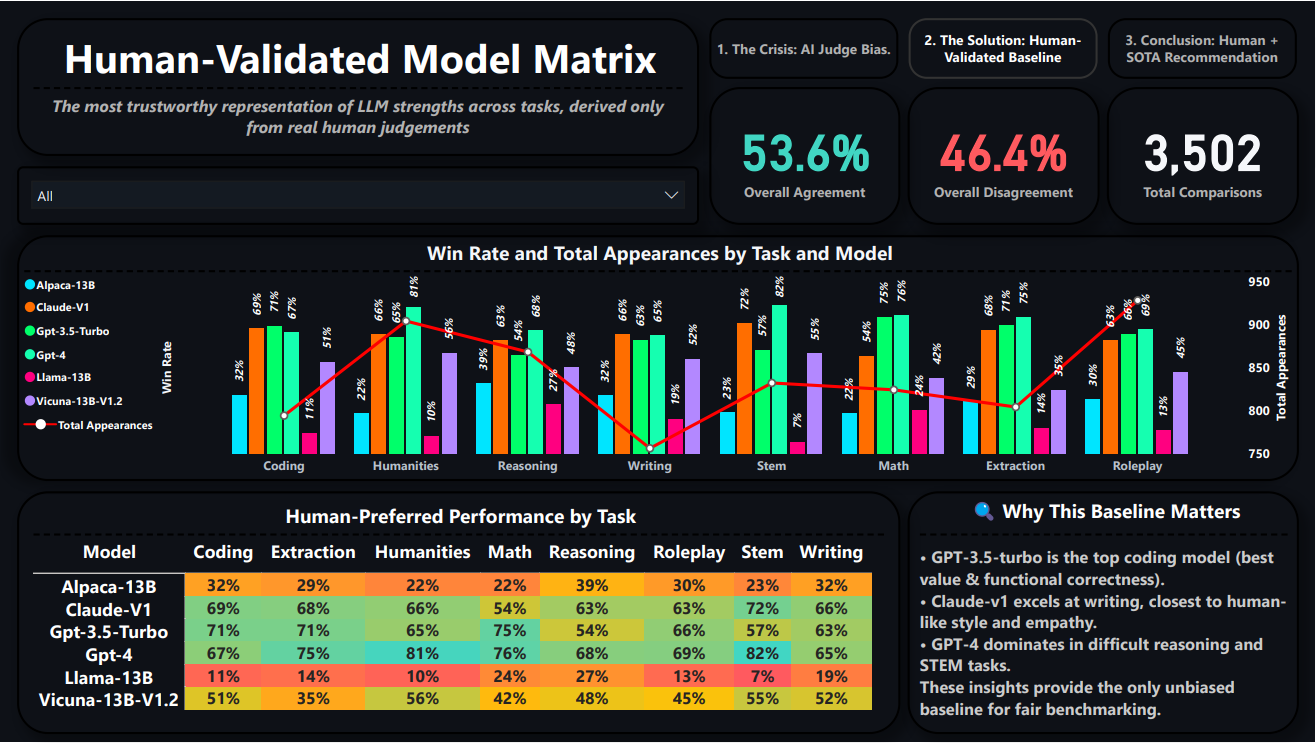

What the dashboard file says about the page in this screenshot:
{"tool":"powerbi","page":{"name":"2. The Solution: Human-Validated Baseline","canvas":[1280,720],"ordinal":1},"visuals":[{"type":"textbox","title":"Human-Validated Model Matrix","box":[16,16,663.8,133.7],"z":0},{"type":"pivotTable","title":"Human-Preferred Performance by Task","fields":{"Rows":["human_model_rankings_for_powerbi.model"],"Columns":["human_model_rankings_for_powerbi.category"],"Values":["Avg(human_model_rankings_for_powerbi.win_rate)"]},"box":[16,476.1,860.1,235.6],"z":1000},{"type":"lineClusteredColumnComboChart","title":"Win Rate and Total Appearances by Task and Model","fields":{"Category":["human_model_rankings_for_powerbi.category"],"Y":["Avg(human_model_rankings_for_powerbi.win_rate)"],"Y2":["Sum(human_model_rankings_for_powerbi.appearances)"],"Series":["human_model_rankings_for_powerbi.model"]},"box":[16,227,1247.9,239.3],"z":2000},{"type":"textbox","title":"🔍 Why This Baseline Matters","box":[883.4,476.1,380.4,235.6],"z":3000},{"type":"slicer","title":"Category","fields":{"Values":["agreement_rates_for_powerbi.category"]},"box":[16,159.5,663.8,57.7],"z":4000},{"type":"card","fields":{"Values":["Avg(agreement_rates_for_powerbi.agreement_rate)"]},"box":[689.6,83.4,186.5,133.7],"z":5000},{"type":"card","fields":{"Values":["Avg(agreement_rates_for_powerbi.disagreement_rate)"]},"box":[883.4,83.4,186.5,133.7],"z":6000},{"type":"card","fields":{"Values":["CountNonNull(human_gpt_comparison.question_id)"]},"box":[1077.3,83.4,186.5,133.7],"z":7000},{"type":"pageNavigator","box":[689.6,16,574.2,58.9],"z":8000}]}

Visuals, with their boxes in screenshot pixels (x1, y1, x2, y2), scaled from the page's 1280x720 canvas onto the 1316x745 screenshot:
"Human-Validated Model Matrix" textbox: bbox=(16, 17, 699, 155)
"Human-Preferred Performance by Task" pivotTable: bbox=(16, 493, 901, 736)
"Win Rate and Total Appearances by Task and Model" lineClusteredColumnComboChart: bbox=(16, 235, 1299, 482)
"🔍 Why This Baseline Matters" textbox: bbox=(908, 493, 1299, 736)
"Category" slicer: bbox=(16, 165, 699, 225)
card - Avg(agreement_rates_for_powerbi.agreement_rate): bbox=(709, 86, 901, 225)
card - Avg(agreement_rates_for_powerbi.disagreement_rate): bbox=(908, 86, 1100, 225)
card - CountNonNull(human_gpt_comparison.question_id): bbox=(1108, 86, 1299, 225)
pageNavigator: bbox=(709, 17, 1299, 78)
